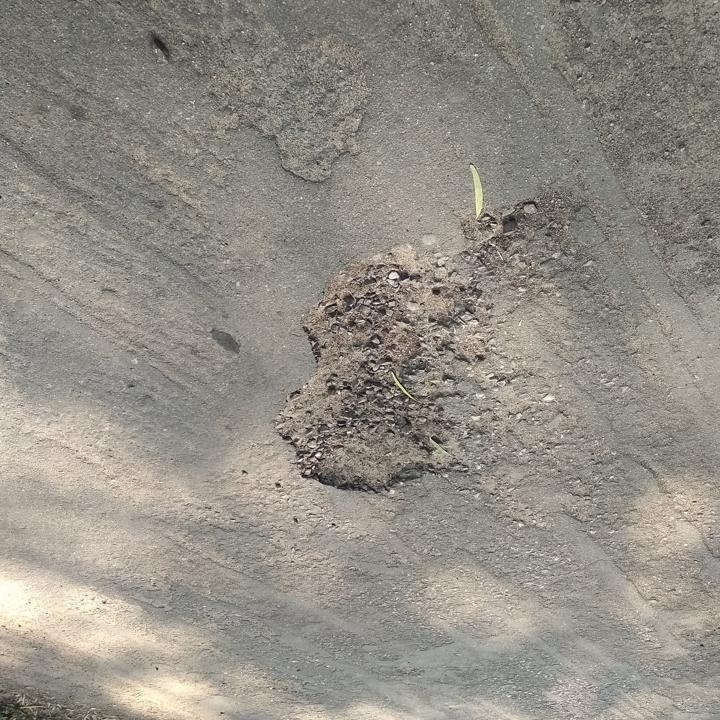pothole: (269, 243, 477, 496)
